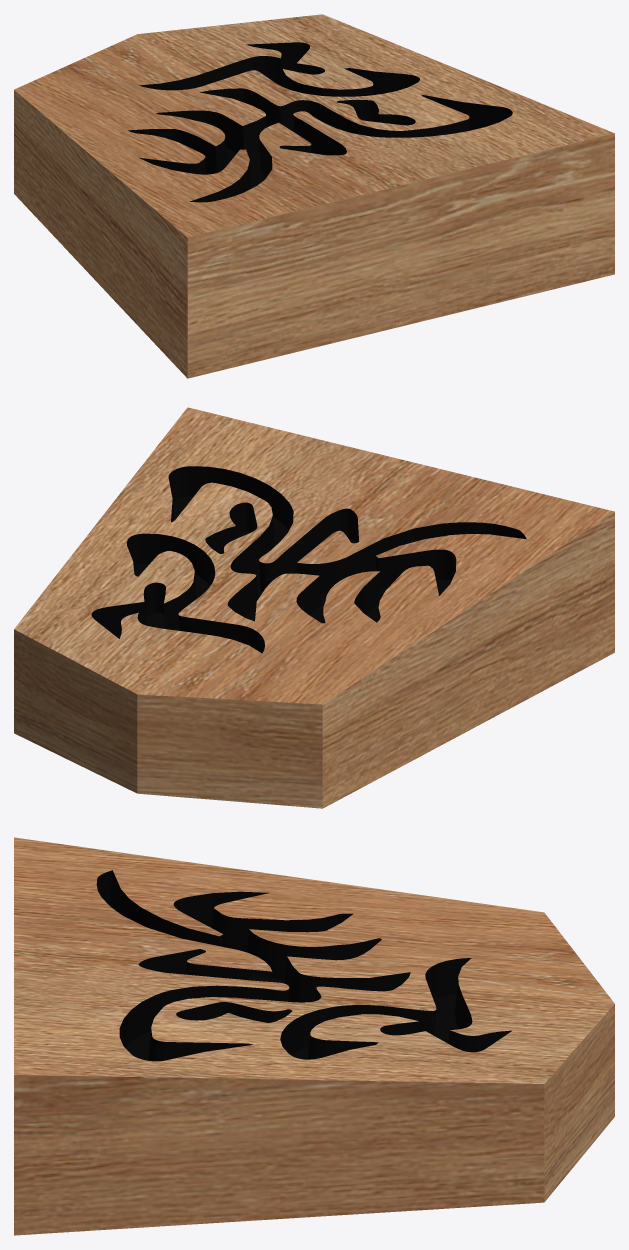
The model's file is Rook.fbx.
3 renders of one model, top to bottom at view 1: azimuth 30°, elevation 25°; view 2: azimuth 150°, elevation 25°; view 3: azimuth 270°, elevation 25°, orthographic. The views are drawn at different scales.
Parts seen in each view (by area): view 1: Rook; view 2: Rook; view 3: Rook.
Boxes of the visible parts, bbox=[...] form: Rook: bbox=[14, 14, 614, 378]; Rook: bbox=[14, 407, 614, 808]; Rook: bbox=[14, 837, 614, 1235].
Bounding box in the file's own units: 2746 × 866 × 2936.
